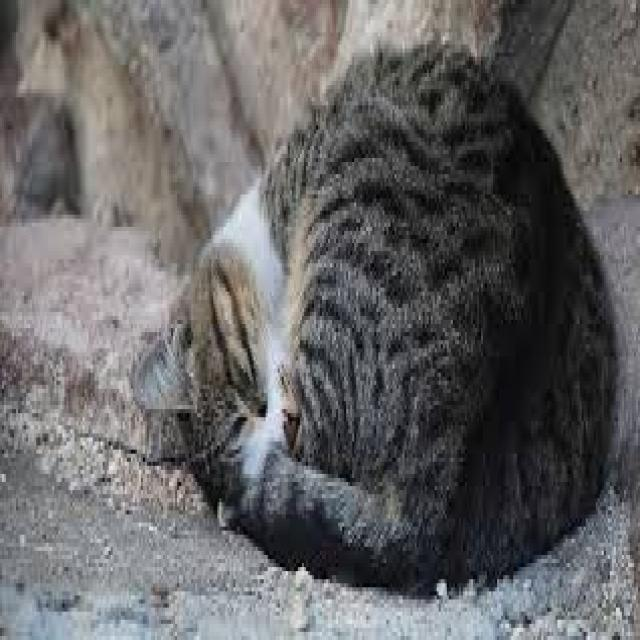cat: (132, 47, 617, 601)
